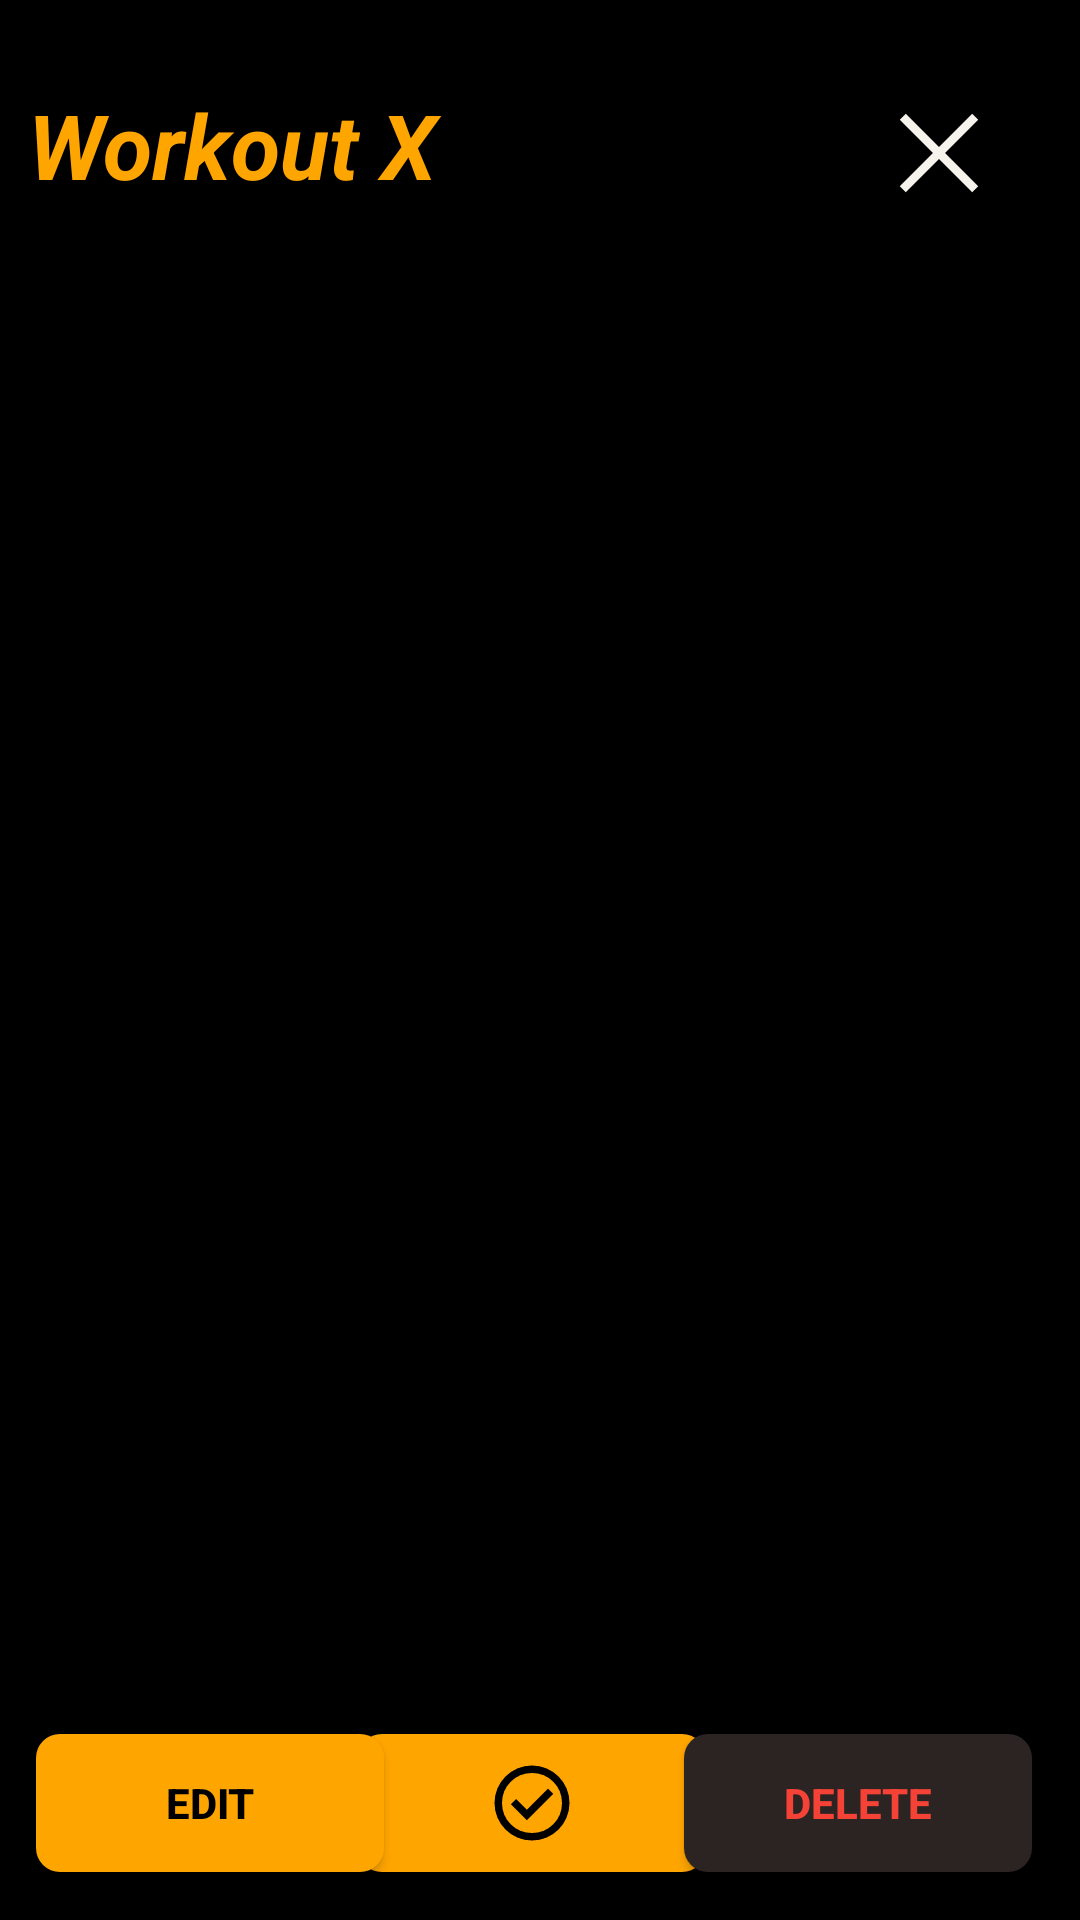

Point at icon controls on the screen. Image size 1080 x 1920, points as [x,y].
check: [532,1803]
close: [939,153]
